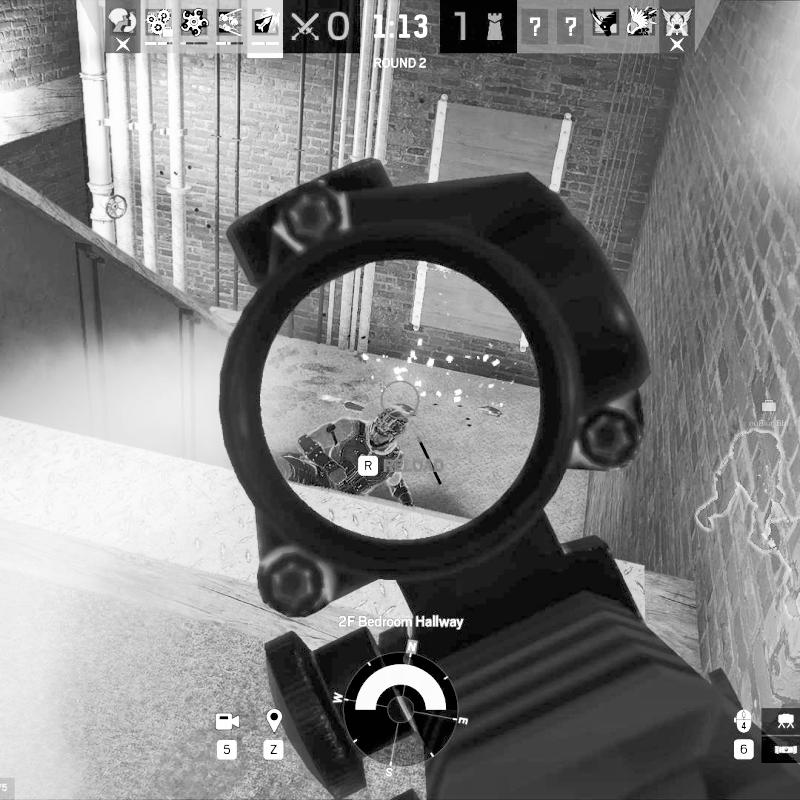Character: (276, 402, 416, 507)
Friend_label: (748, 398, 789, 428)
Head: (366, 404, 410, 449)
